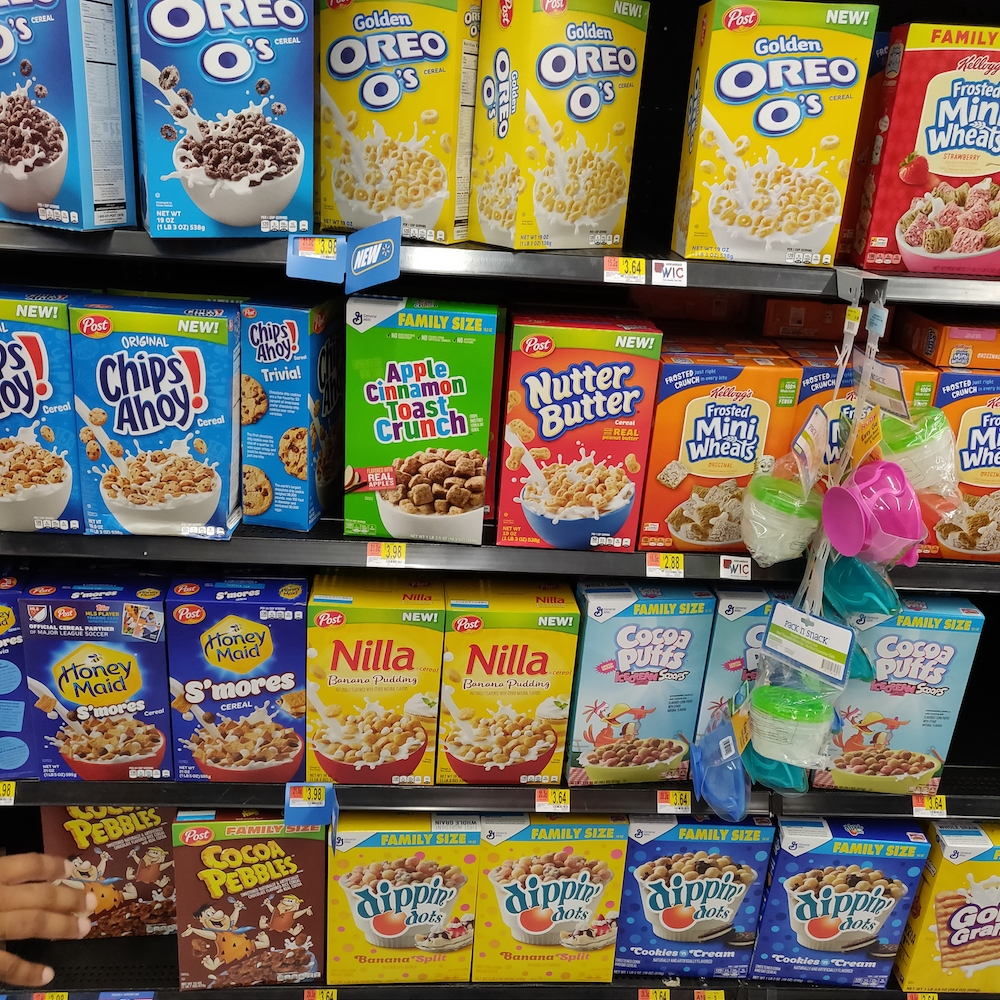Chips Ahoys-565717529: (63, 298, 248, 547)
Cocoa Pebbles-555517893: (171, 818, 330, 985)
Cocoa Puffs Ice Cream-563408546: (154, 587, 318, 779), (842, 614, 975, 799), (578, 607, 702, 800), (26, 606, 167, 775)
Dippin Dots Banana-568929376: (333, 830, 477, 994), (478, 834, 620, 981)
Dippin Dots Cookies & Cream -568929378: (625, 813, 760, 979), (774, 828, 909, 979)
Mini Wheats Straw-567084832: (884, 35, 1000, 261)
Nilla -568301014: (311, 604, 448, 787), (440, 621, 566, 779)
Oreo Golden-568301011: (699, 6, 858, 269), (480, 11, 640, 249), (315, 3, 463, 241), (506, 328, 646, 547)
Oreo-563424384: (127, 1, 317, 232)
